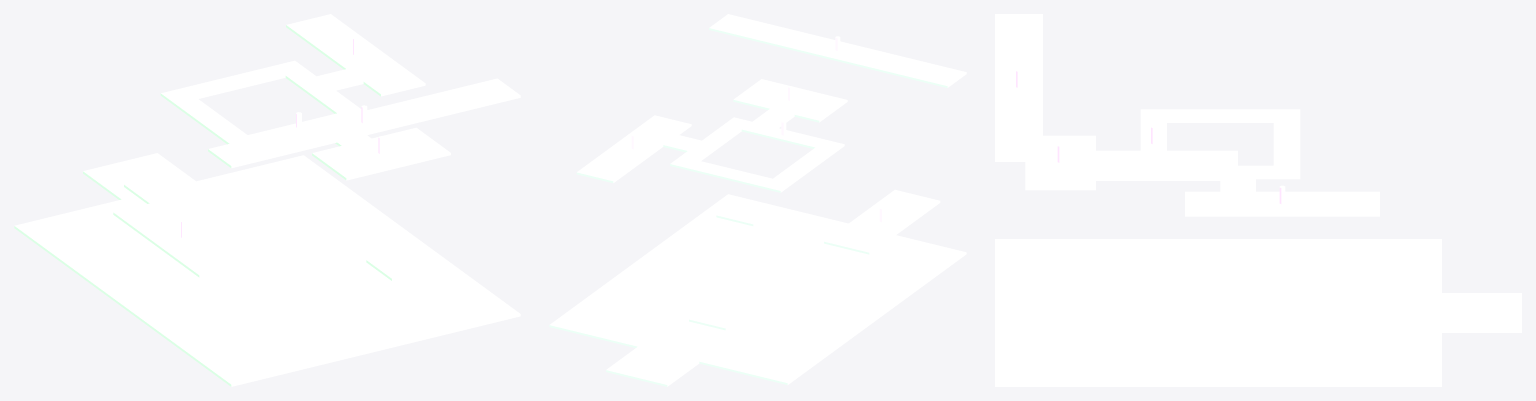
Rendered from hall_ov_regions.glb.
3 renders of one model, left to right at view 1: azimuth 30°, elevation 25°; view 2: azimuth 150°, elevation 25°; view 3: azimuth 270°, elevation 25°, orthographic. The views are drawn at different scales.
Parts seen in each view (by area): view 1: hall_ov_regions; view 2: hall_ov_regions; view 3: hall_ov_regions.
Boxes of the visible parts, x1,y1,x2,y2 form: hall_ov_regions: (14,14,520,386); hall_ov_regions: (549,14,966,386); hall_ov_regions: (995,14,1521,386).
Bounding box in the file's own units: 38.8 × 30.3 × 59.4.
